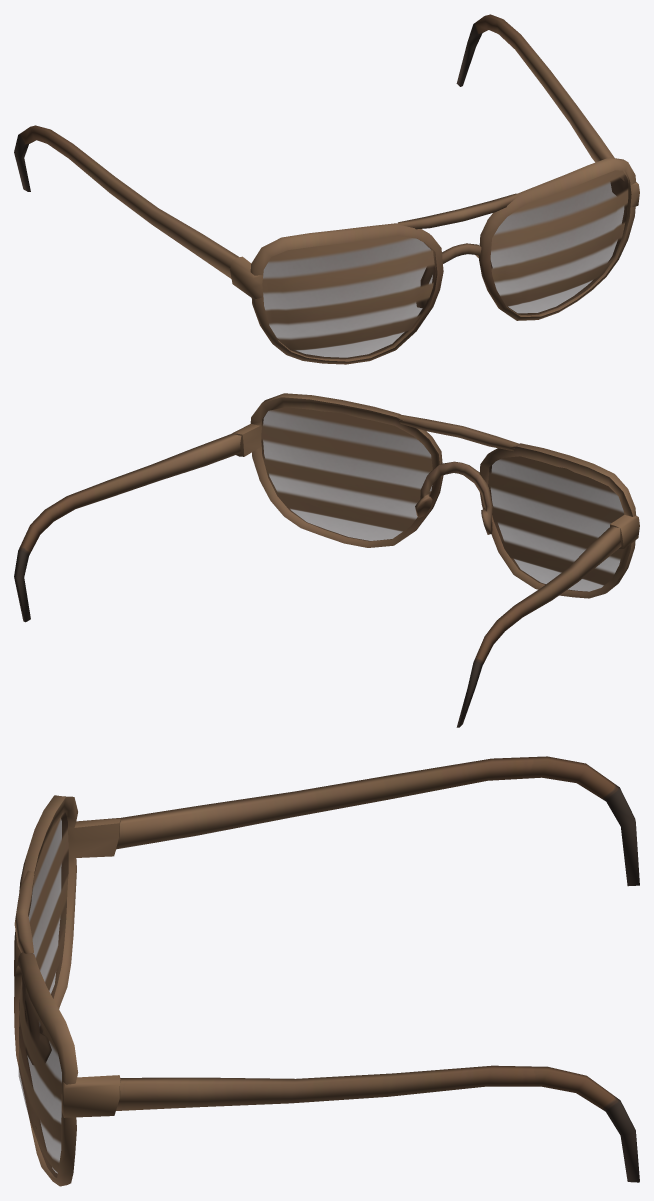
The picture shows the model from 3 angles, top to bottom: view 1: azimuth 30°, elevation 25°; view 2: azimuth 150°, elevation 25°; view 3: azimuth 270°, elevation 25°; orthographic projection. The views are drawn at different scales.
Parts seen in each view (by area): view 1: Wolf3D_Glasses; view 2: Wolf3D_Glasses; view 3: Wolf3D_Glasses.
Part boxes in pixels (<box>): Wolf3D_Glasses: <box>14,14,639,364</box>; Wolf3D_Glasses: <box>14,393,639,727</box>; Wolf3D_Glasses: <box>14,756,639,1186</box>.
Size of the model in its own units: 0.1637 by 0.047 by 0.1371.
Materials: 1 (1 with a texture image).
